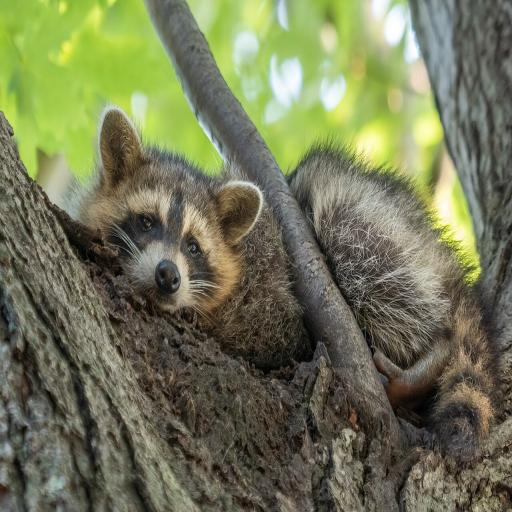raccoon: (289, 145, 496, 459), (289, 147, 495, 459), (68, 108, 308, 368)
